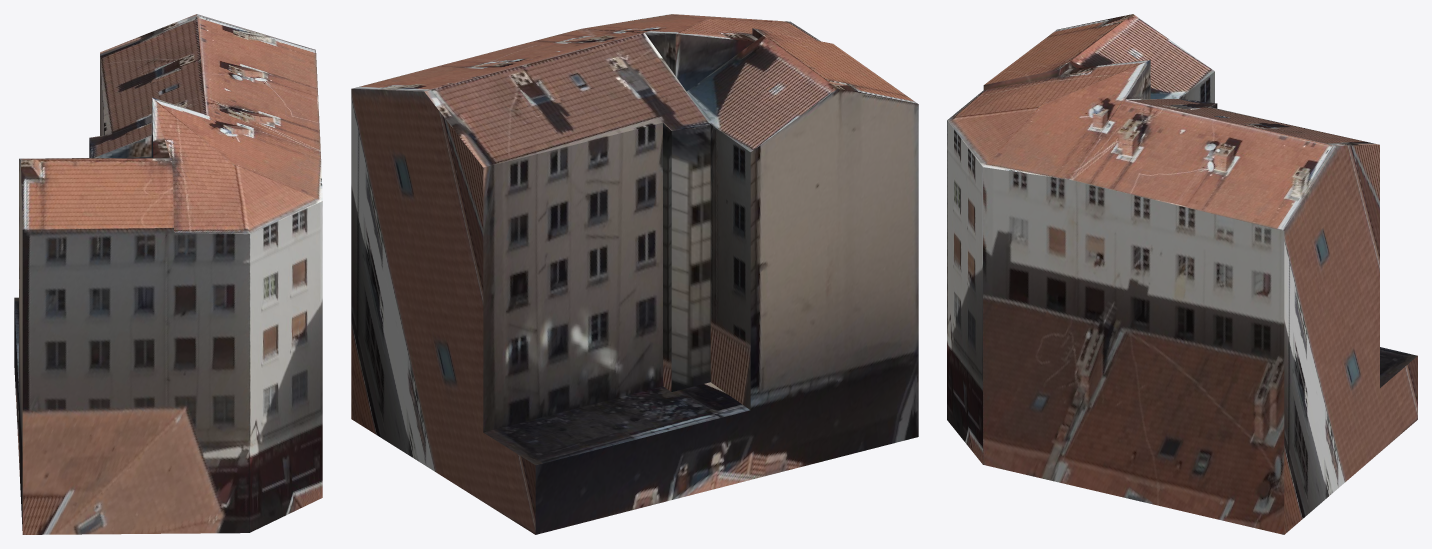
3 renders of one model, left to right at view 1: azimuth 30°, elevation 25°; view 2: azimuth 150°, elevation 25°; view 3: azimuth 270°, elevation 25°, orthographic. The views are drawn at different scales.
Parts seen in each view (by area): view 1: Z_UP; view 2: Z_UP; view 3: Z_UP.
Part boxes in pixels (left/top/right/bottom): Z_UP: left=14, top=14, right=322, bottom=534; Z_UP: left=351, top=14, right=918, bottom=534; Z_UP: left=947, top=14, right=1417, bottom=534.
Size of the model in its own units: 28.3 by 23.99 by 28.27.
Materials: 2 (1 with a texture image).
